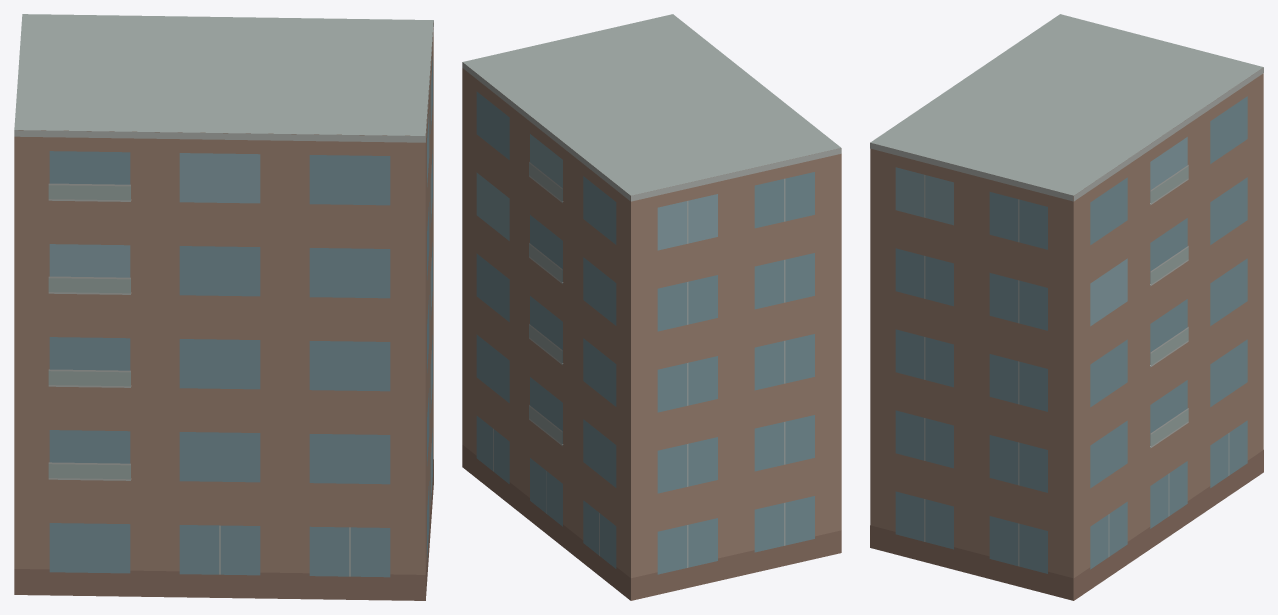
The model's file is survey-upis-32880141.glb.
3 views of the same model, side by side, from view 1: azimuth 30°, elevation 25°; view 2: azimuth 150°, elevation 25°; view 3: azimuth 270°, elevation 25° (orthographic). The views are drawn at different scales.
Visible parts, largest first — view 1: survey-upis-32880141.tmp; view 2: survey-upis-32880141.tmp; view 3: survey-upis-32880141.tmp.
Boxes of the visible parts, x1,y1,x2,y2 form: survey-upis-32880141.tmp: (14,14,433,600); survey-upis-32880141.tmp: (462,14,841,600); survey-upis-32880141.tmp: (870,14,1263,600).
Size of the model in its own units: 16.17 by 16.81 by 14.81.
